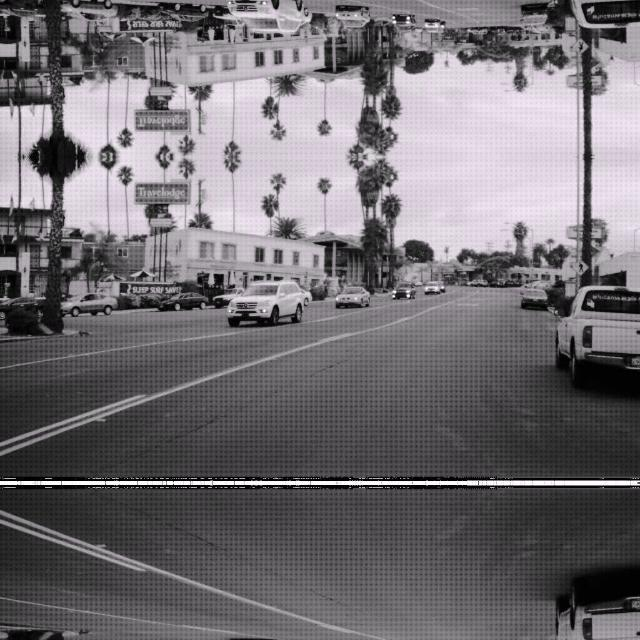pedestrianCrossing: (571, 257, 589, 275), (571, 37, 589, 55)
